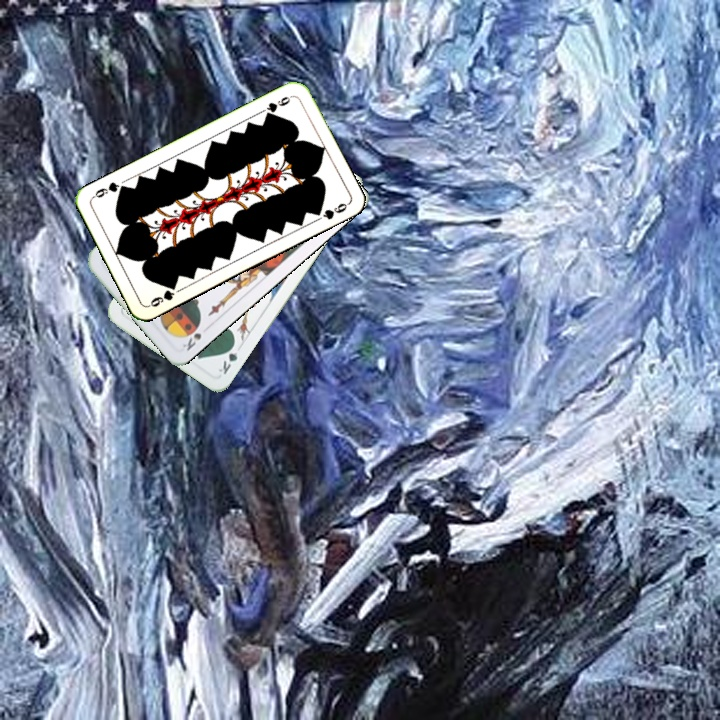G9: (144, 280, 179, 310), (261, 91, 295, 119)
GK: (214, 339, 240, 377)
SK: (178, 320, 204, 354)
